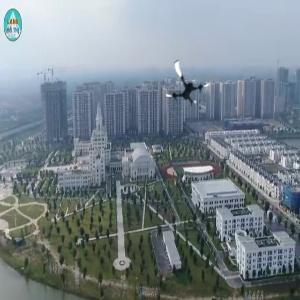drone: (162, 59, 213, 110)
